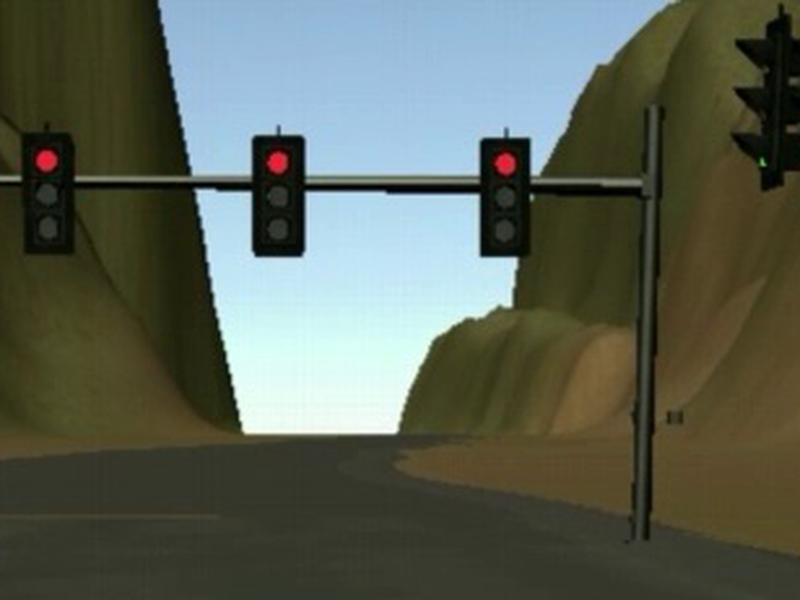Red: (251, 135, 305, 256), (21, 132, 73, 254), (481, 137, 530, 257)
